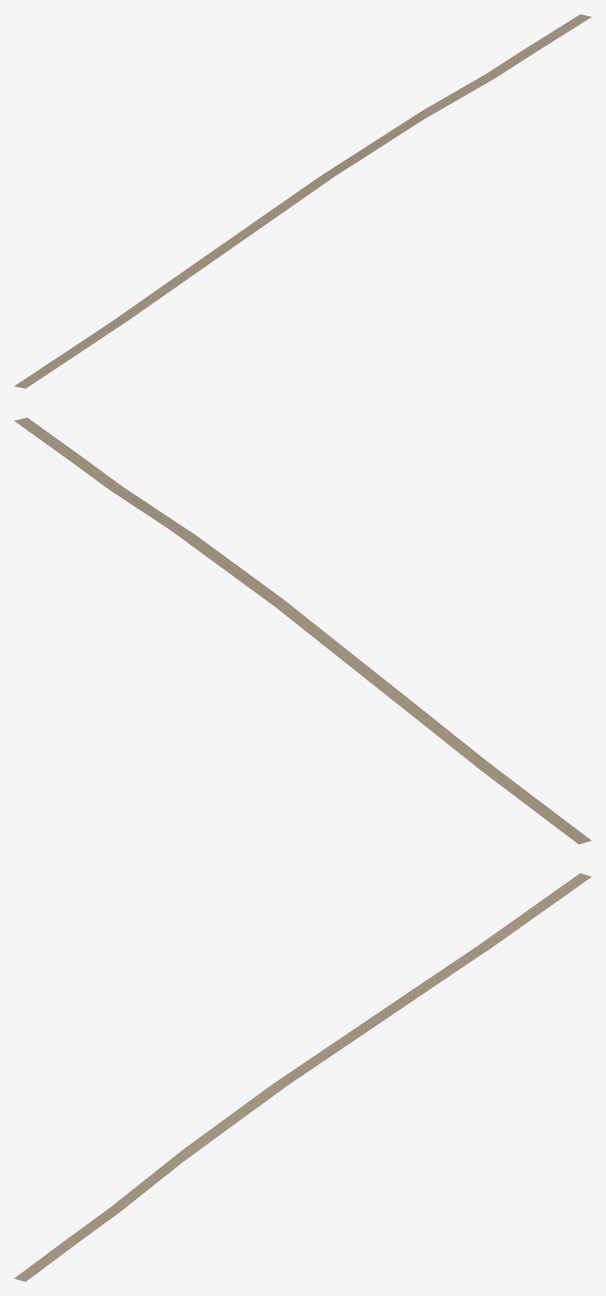
The model's file is farm_10_1_track.glb.
The picture shows the model from 3 angles, top to bottom: view 1: azimuth 90°, elevation 25°; view 2: azimuth 150°, elevation 25°; view 3: azimuth 270°, elevation 25°; orthographic projection. The views are drawn at different scales.
Visible parts, largest first — view 1: geometry_0; view 2: geometry_0; view 3: geometry_0.
Boxes of the visible parts, x1=… form: geometry_0: x1=14, y1=14, x2=591, y2=388; geometry_0: x1=14, y1=417, x2=591, y2=844; geometry_0: x1=14, y1=873, x2=591, y2=1281.
Size of the model in its own units: 222 by 4.55 by 138.
